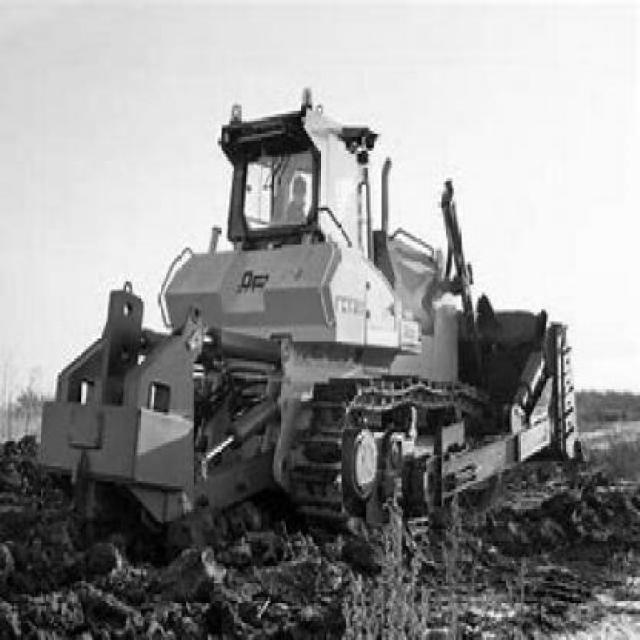Construction Equipment: (40, 87, 579, 536)
